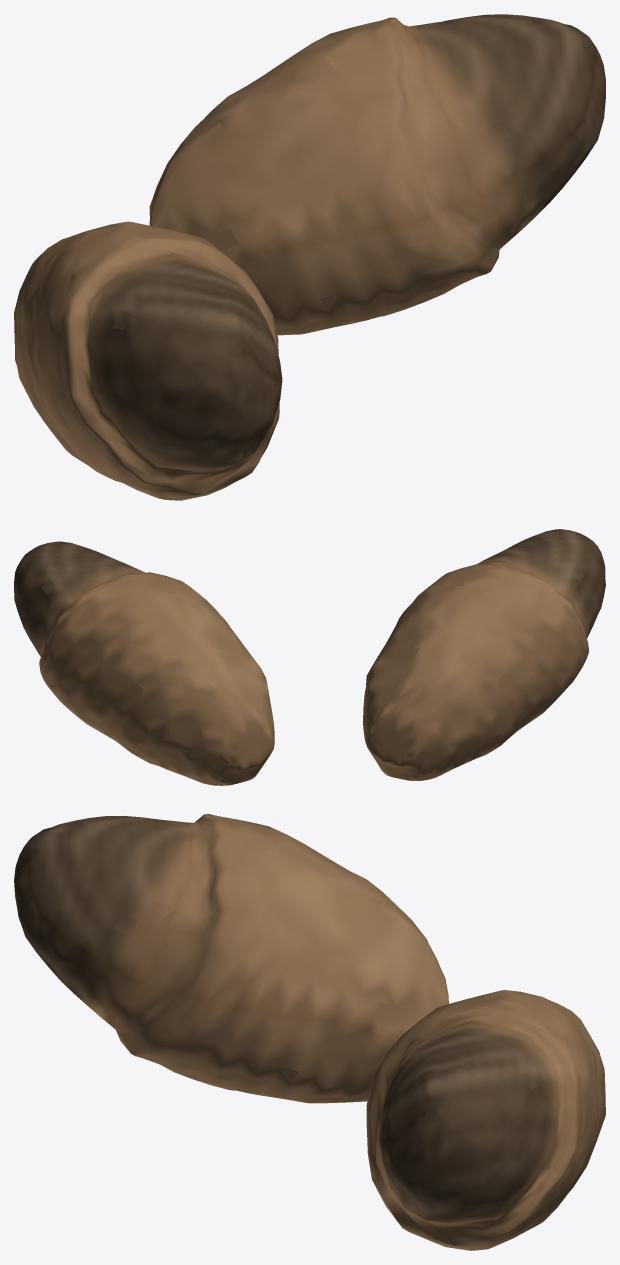
The model's file is sculpture_02.glb.
3 renders of one model, top to bottom at view 1: azimuth 30°, elevation 25°; view 2: azimuth 150°, elevation 25°; view 3: azimuth 270°, elevation 25°, orthographic. The views are drawn at different scales.
Visible parts, largest first — view 1: SCL_02_07; view 2: SCL_02_07; view 3: SCL_02_07.
Part boxes in pixels (x1,y1,x2,y2): SCL_02_07: [14, 14, 605, 500]; SCL_02_07: [14, 529, 605, 785]; SCL_02_07: [14, 814, 605, 1250].
Bounding box in the file's own units: 0.2119 × 0.0796 × 0.1713.
1 material, 1 textured.
